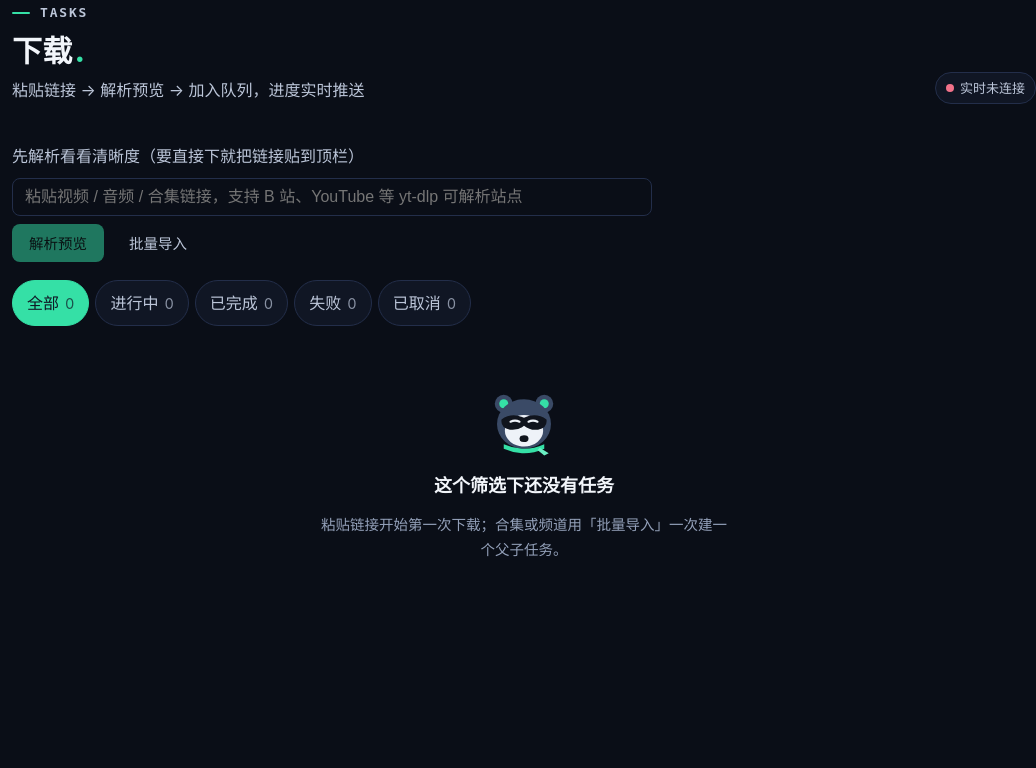
Tasks 视图 › 解析失败时把引擎原始原因一并显示（不能只剩「引擎退出码 1」）
In the field with id "task-url-input": (332, 197) left=12, top=178, right=652, bottom=216, type "https://www.youtube.com/watch?v=aaaaaaaaaaa"
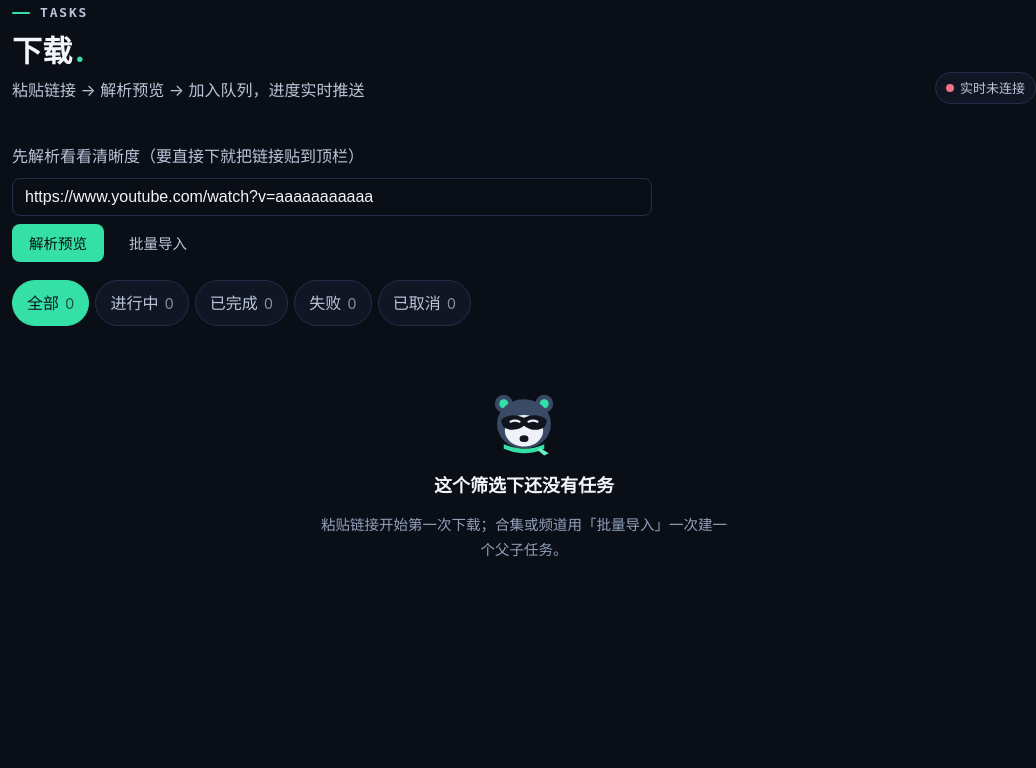
Click the button "解析预览": (58, 243) left=12, top=224, right=104, bottom=262
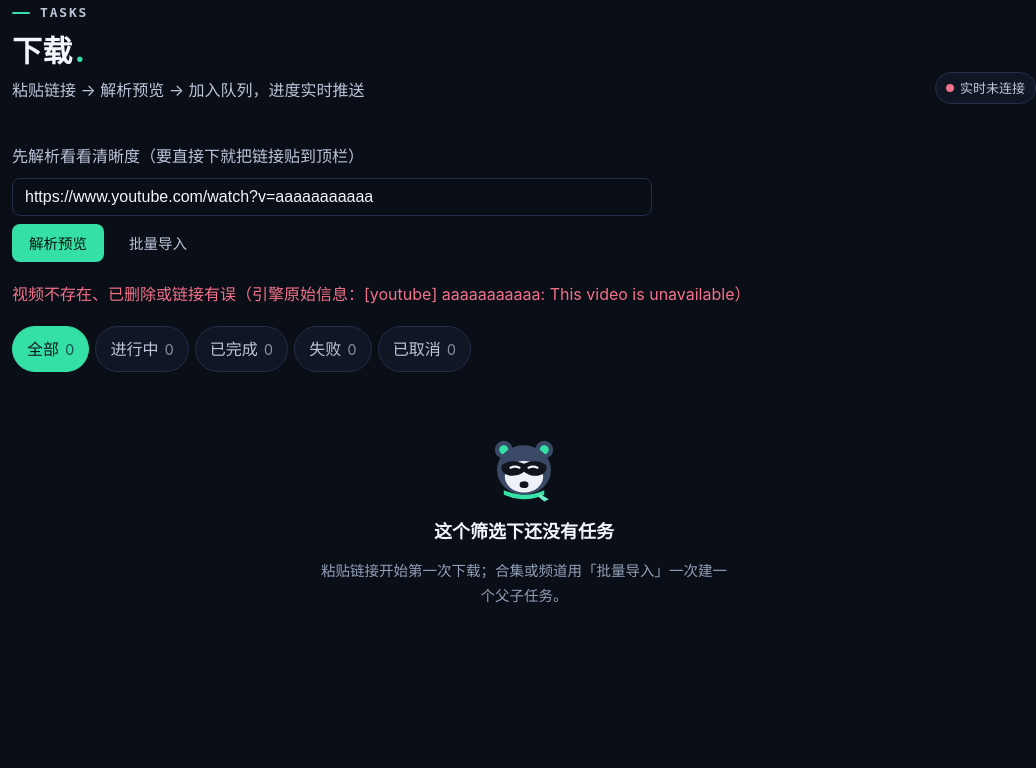
Expected: the text with class "err" shows "视频不存在、已删除或链接有误", left=12, top=284, right=750, bottom=304
Expected: the text with class "err" shows "This video is unavailable", left=12, top=284, right=750, bottom=304
